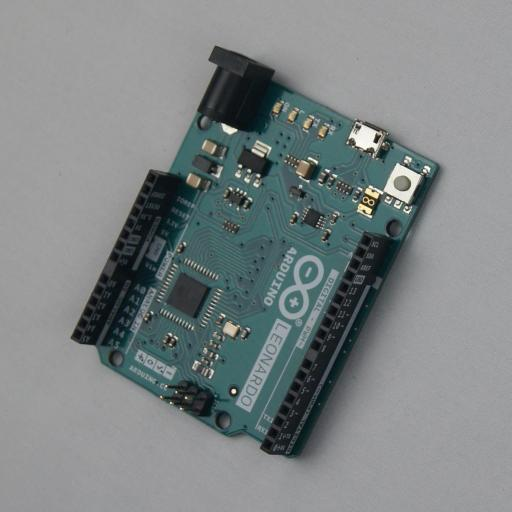Arduino Leonardo: (70, 46, 442, 461)
